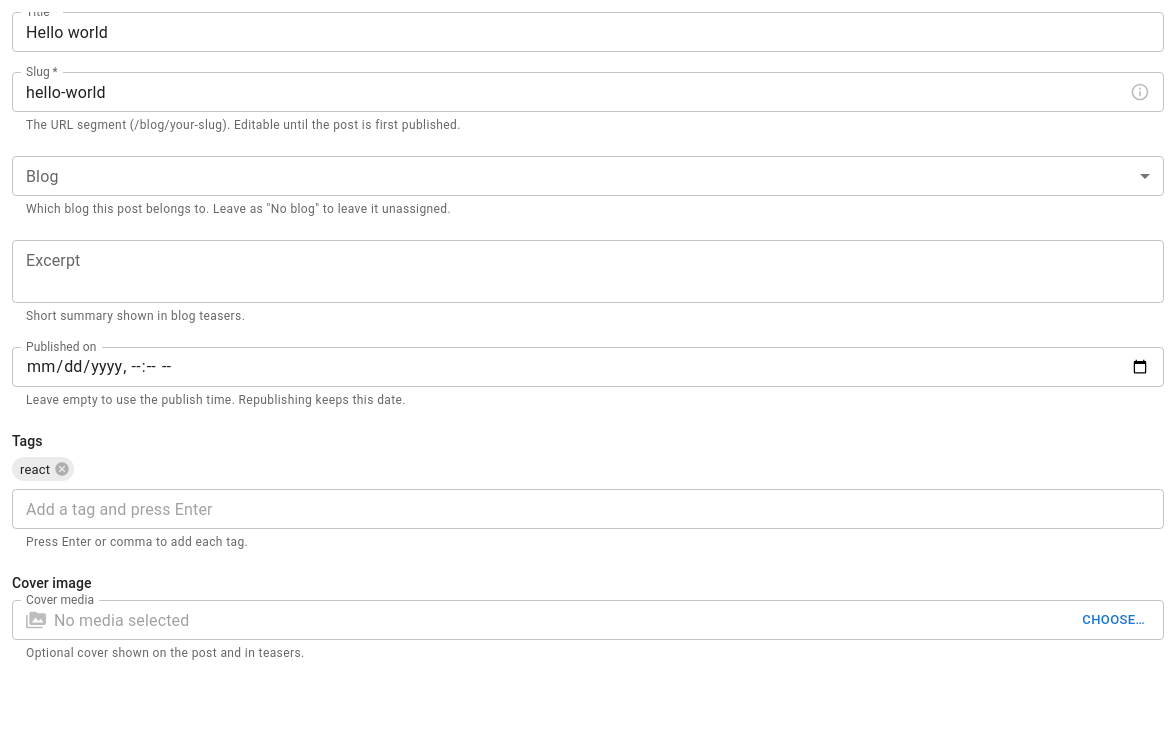
Test: PostMetadataEditor, blog select (Blogs v1.13) › populates the select from GET /api/admin/blogs with a "No blog" option
What coordinates should you click on to do the following:
click the dropdown named "blog"
I would click on:
 (588, 176)
Its box is [12, 156, 1164, 196].
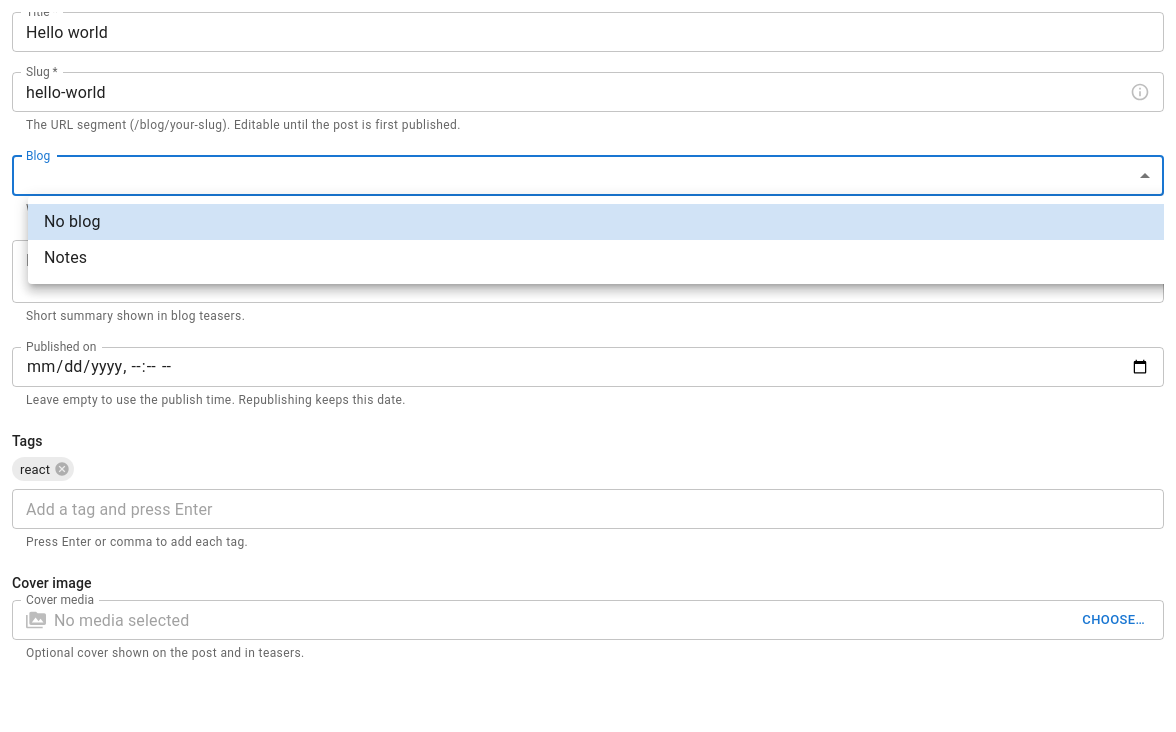
Check: the option "Notes" is shown, box [44, 248, 87, 267]
